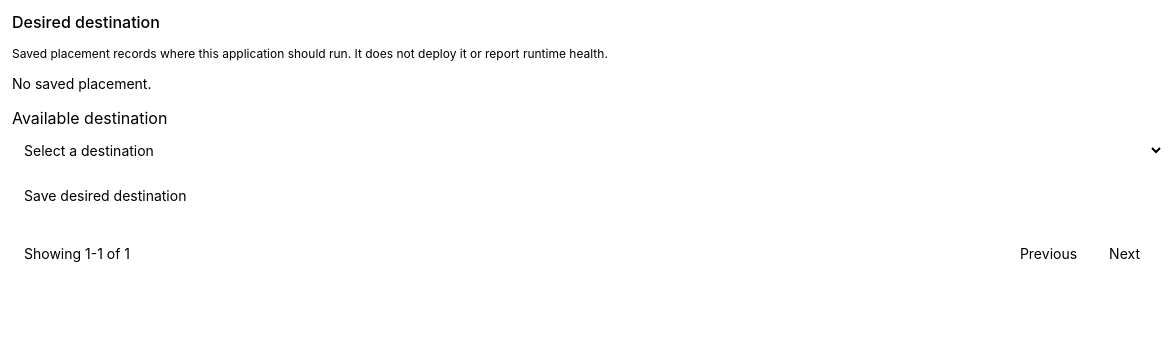
Scenario: 503 refresh error retains draft and blocks writes until explicit retry
Select "default · server · docker_compose" in the dropdown labelled "Available destination". click: coordinates (588, 150)
box: [12,130,1164,170]
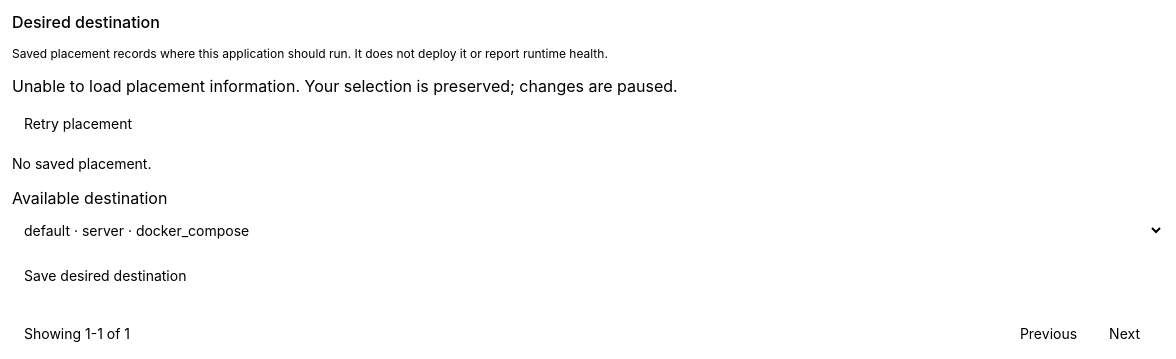
Expected: the button "Save desired destination" is disabled, [12,258,198,294]
Expected: the button "Retry placement" is shown
Click the button "Retry placement". click: coordinates (78, 124)
box: [12,106,144,142]
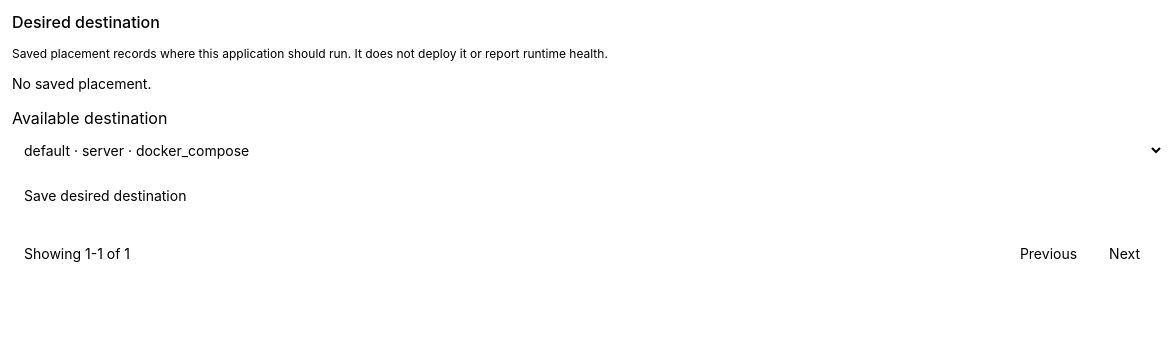
Expected: the button "Save desired destination" is enabled, [12,178,198,214]
